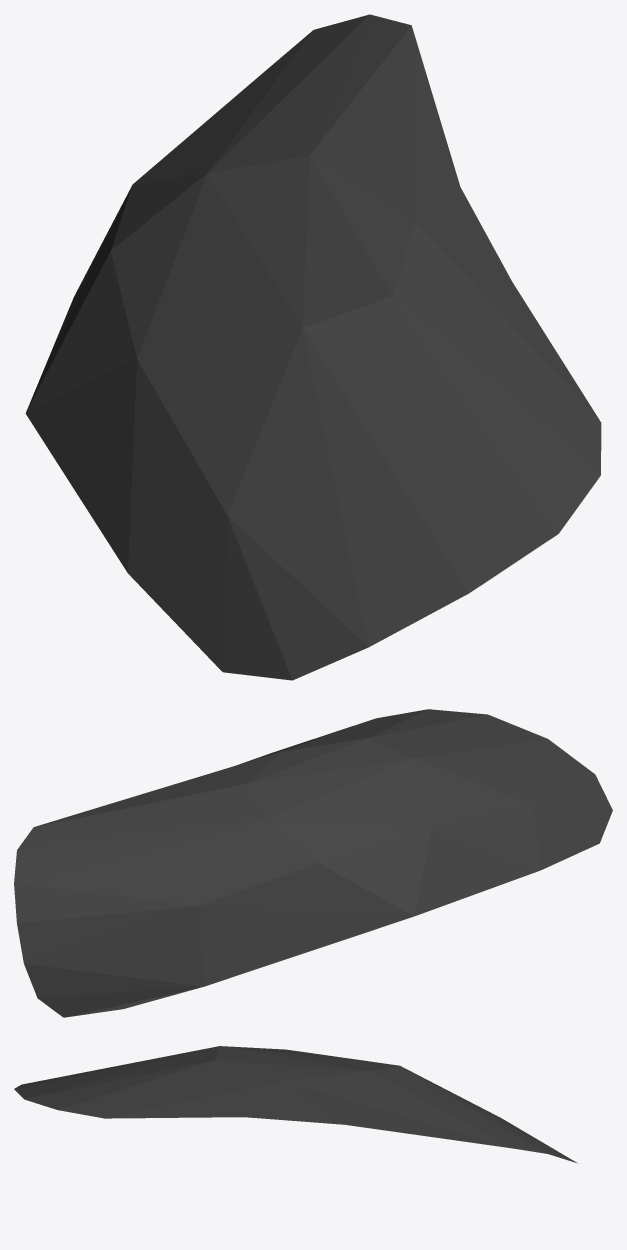
The model's file is Scapula_coracoid_process.glb.
3 renders of one model, top to bottom at view 1: azimuth 30°, elevation 25°; view 2: azimuth 150°, elevation 25°; view 3: azimuth 270°, elevation 25°, orthographic. The views are drawn at different scales.
Visible parts, largest first — view 1: Scapula_coracoid_process; view 2: Scapula_coracoid_process; view 3: Scapula_coracoid_process.
Boxes of the visible parts, x1,y1,x2,y2 form: Scapula_coracoid_process: [25, 14, 601, 680]; Scapula_coracoid_process: [14, 709, 612, 1017]; Scapula_coracoid_process: [14, 1046, 577, 1163].
Size of the model in its own units: 0.0724 by 0.0318 by 0.1231.
1 material, 1 textured.
